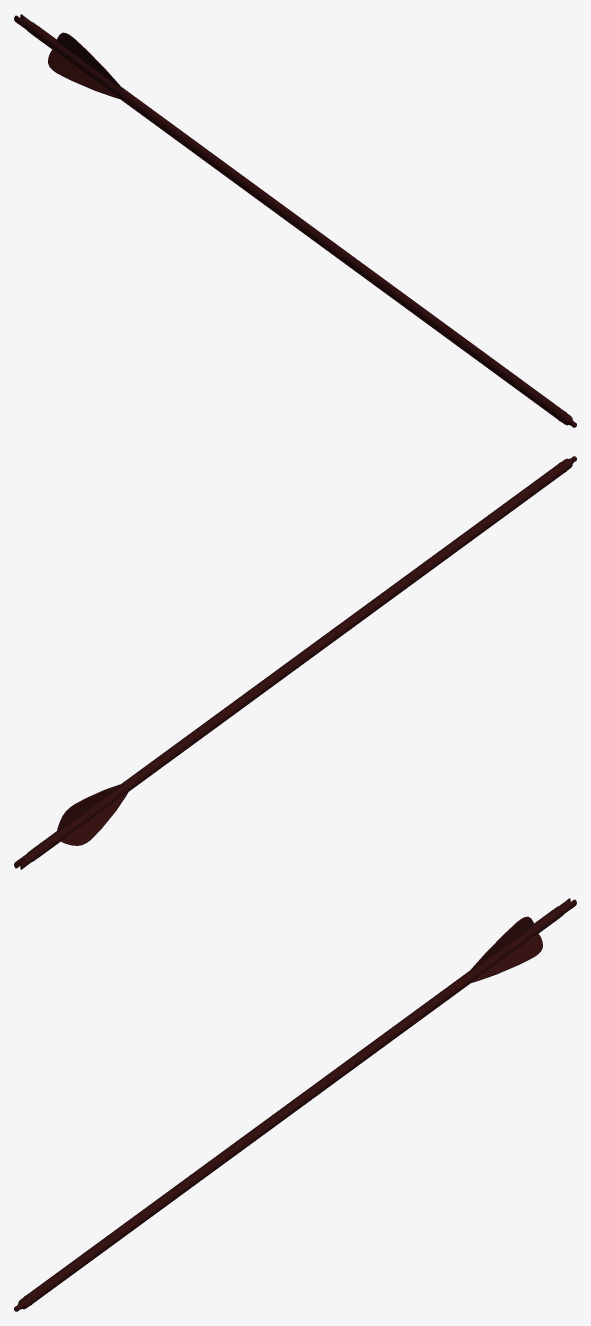
The model's file is arrow_02.FBX.
3 renders of one model, top to bottom at view 1: azimuth 30°, elevation 25°; view 2: azimuth 150°, elevation 25°; view 3: azimuth 330°, elevation 25°, orthographic.
Visible parts, largest first — view 1: arrow_02; view 2: arrow_02; view 3: arrow_02.
Part boxes in pixels (x1,y1,x2,y2): arrow_02: [14, 14, 576, 427]; arrow_02: [14, 456, 576, 869]; arrow_02: [14, 898, 576, 1311].
Bounding box in the file's own units: 2.84 × 79.98 × 2.46.
